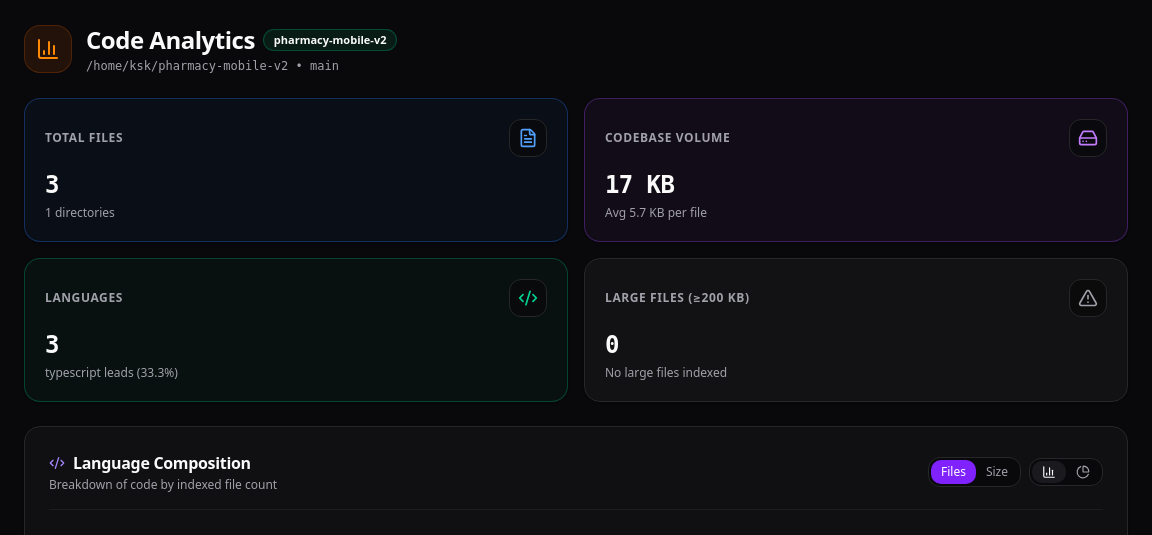
it: AnalyticsPage › toggles metric mode between files and size, and chart type between bar and donut
The image size is (1152, 535).
What coordinates should you click on to do the following:
click the button "Size"
I would click on:
 (997, 472)
Its box is [976,460,1018,484].
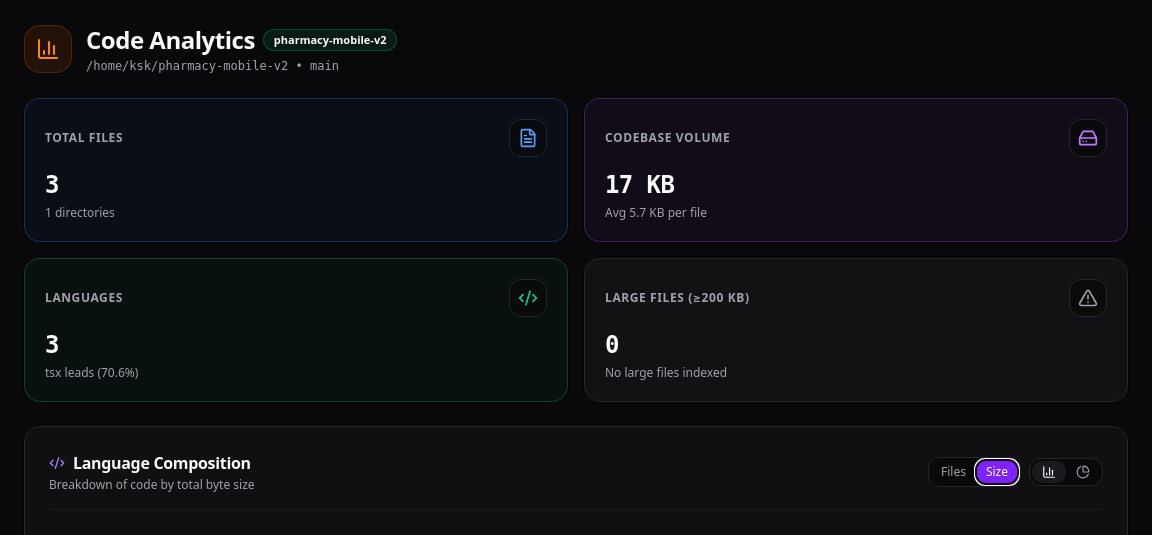
What coordinates should you click on to do the following:
click the button titled "Donut Chart"
I would click on:
 (1083, 472)
Its box is [1066,461,1100,483].
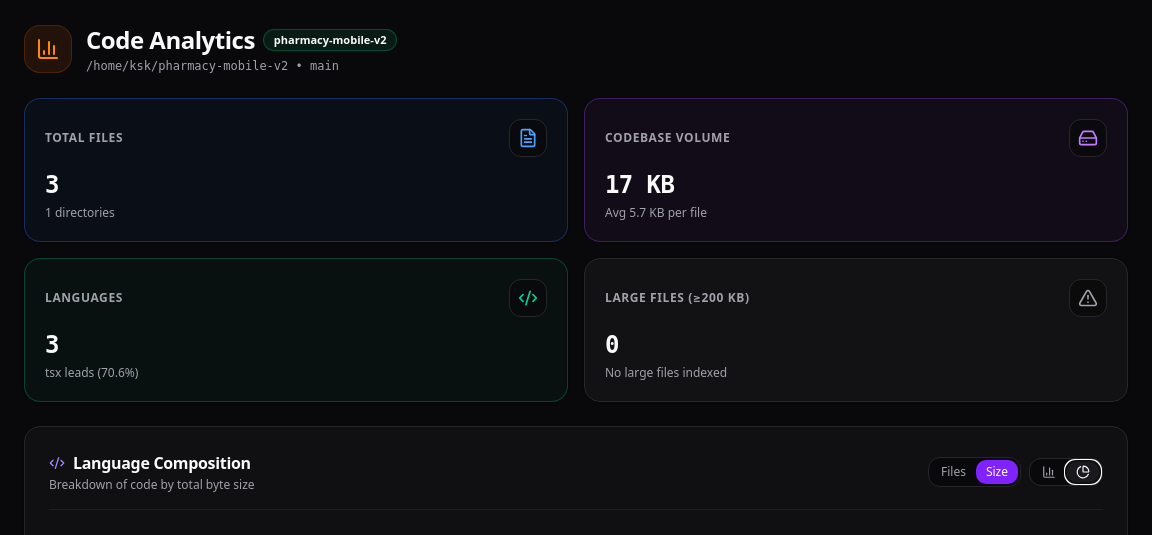
What coordinates should you click on to do the following:
click the button titled "Bar Chart"
I would click on:
 (1049, 472)
Its box is [1032,461,1066,483].
(page scrolled)
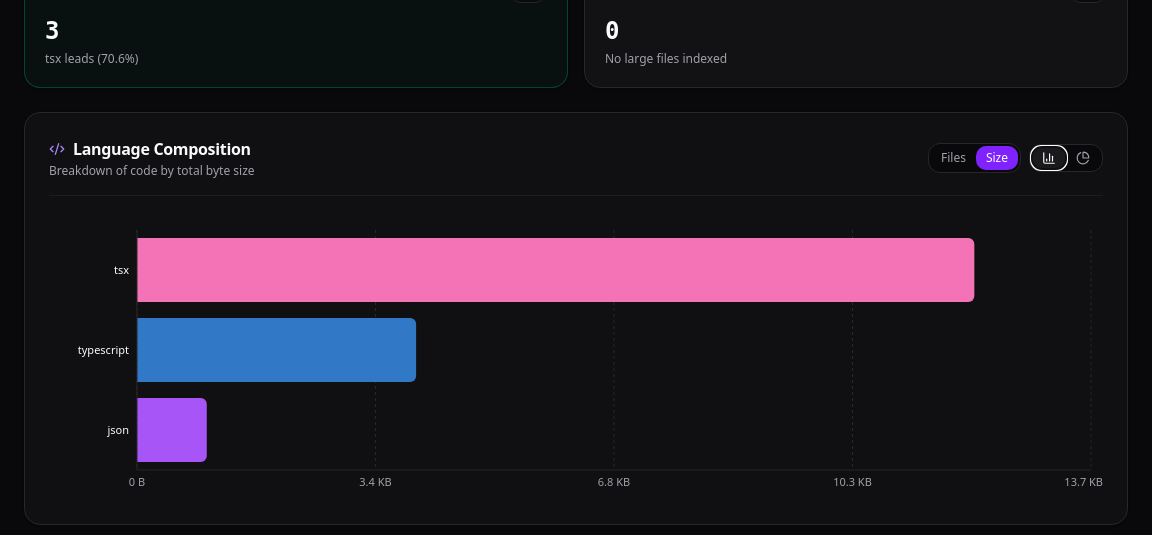
Expected: the element with test id "language-bar-chart" is shown, [49,220,1103,500]
